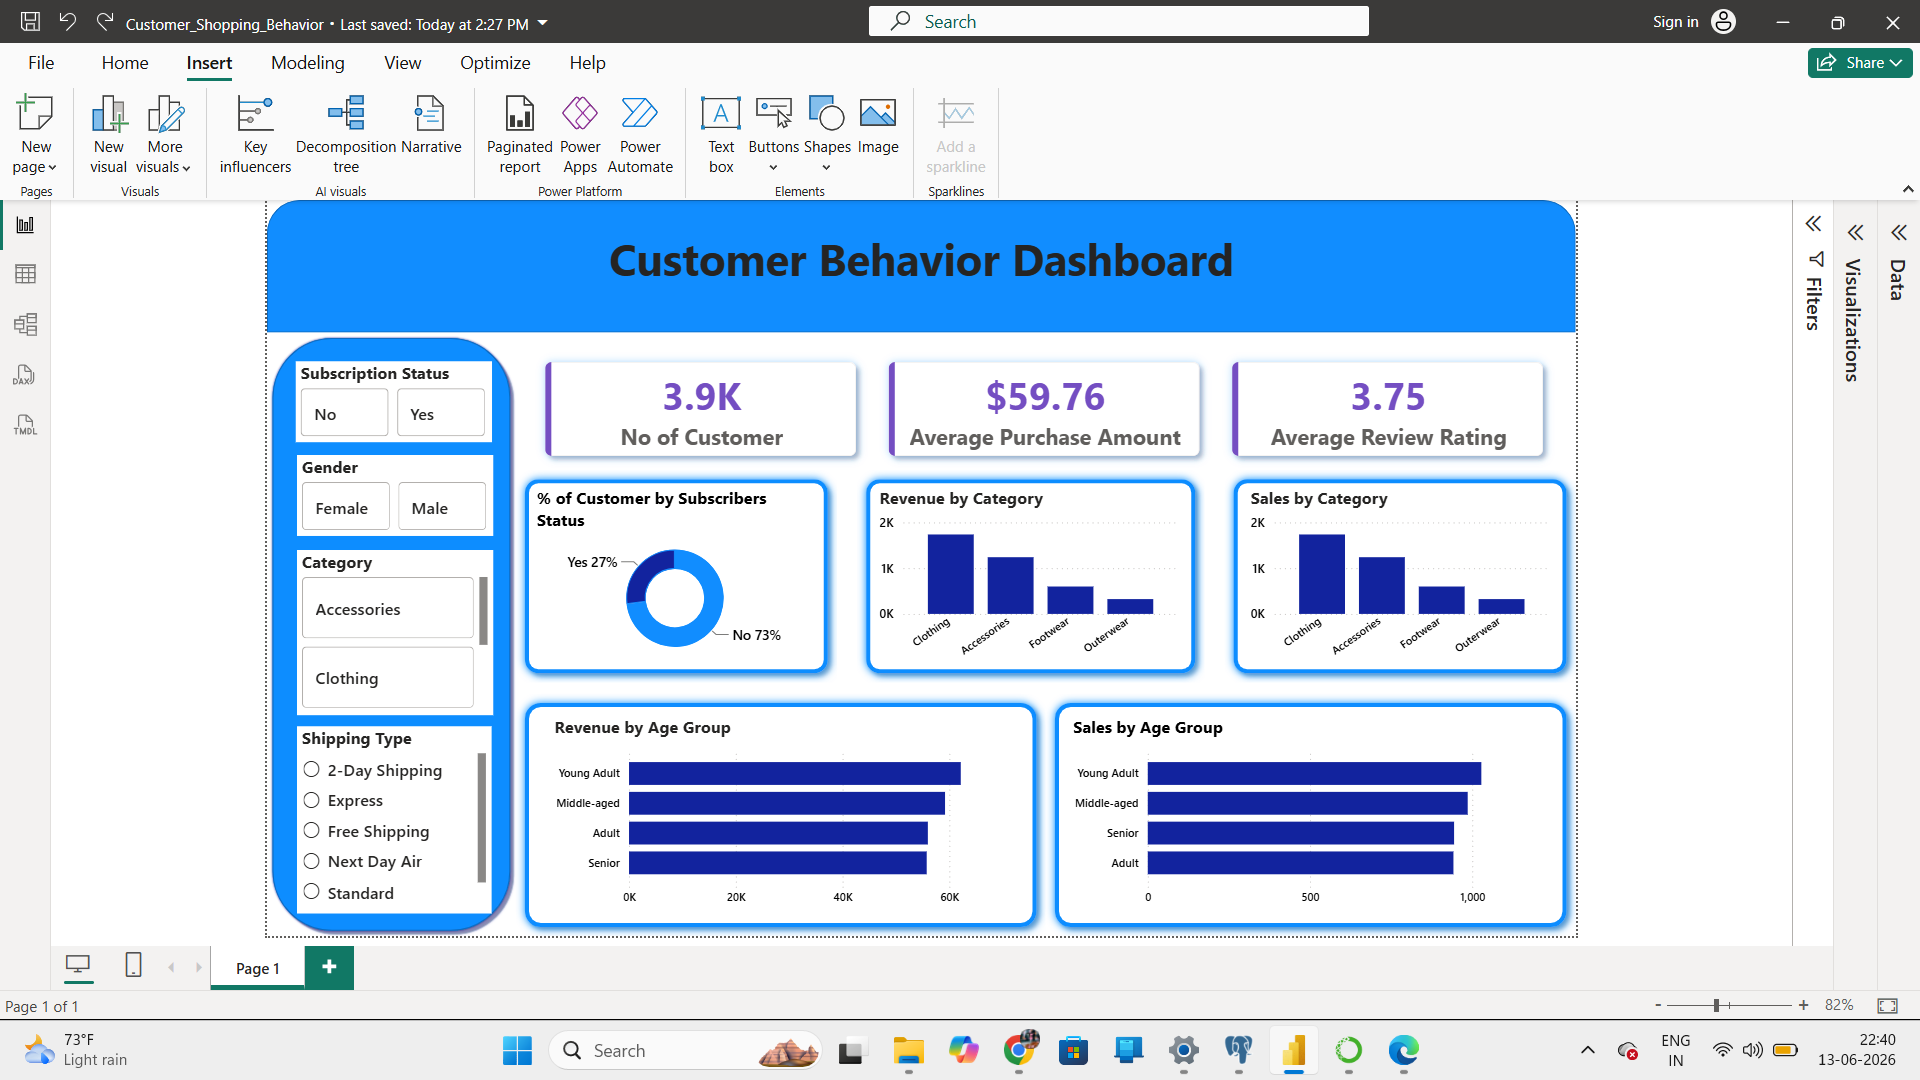

The page's visual inventory and layout, read from the dashboard file:
{"tool":"powerbi","page":{"name":"Page 1","canvas":[1280,720],"ordinal":0},"visuals":[{"type":"cardVisual","fields":{"Data":["public customer.No of Customer","public customer.Average Purchase Amount","public customer.Average Review Rating"]},"box":[243.3,129.6,1037,150.4],"z":0},{"type":"shape","box":[0,0,1280.3,129.6],"z":1000},{"type":"textbox","box":[0,23.2,1280.3,73.4],"z":2000},{"type":"shape","box":[243.3,264.1,314.3,207.9],"z":3000},{"type":"donutChart","title":"% of Customer by Subscribers Status","fields":{"Category":["public customer.subscription_status"],"Y":["CountNonNull(public customer.customer_id)"]},"box":[259.2,280,280,176.1],"z":4000},{"type":"shape","box":[577.2,264.1,339.9,207.9],"z":5000},{"type":"shape","box":[936.7,264.1,343.6,207.9],"z":6000},{"type":"clusteredColumnChart","title":"Revenue by Category","fields":{"Category":["public customer.category"],"Y":["CountNonNull(public customer.purchase_amount)"]},"box":[594.3,280,303.3,176.1],"z":7000},{"type":"clusteredColumnChart","title":"Sales by Category","fields":{"Category":["public customer.category"],"Y":["CountNonNull(public customer.customer_id)"]},"box":[957.5,280,303.3,176.1],"z":8000},{"type":"shape","box":[0,129.6,243.3,590.6],"z":9000},{"type":"advancedSlicerVisual","fields":{"Values":["public customer.subscription_status"]},"box":[28.1,157.7,192,79.5],"z":10000},{"type":"advancedSlicerVisual","fields":{"Values":["public customer.gender"]},"box":[29.3,249.5,192,79.5],"z":11000},{"type":"advancedSlicerVisual","fields":{"Values":["public customer.category"]},"box":[29.3,342.4,192,161.4],"z":12000},{"type":"listSlicer","fields":{"Values":["public customer.shipping_type"]},"box":[29.3,514.8,190.8,183.4],"z":13000},{"type":"clusteredBarChart","fields":{"Y":["Sum(public customer.purchase_amount)"],"Category":["public customer.age_group"]},"box":[267.8,502.6,478.1,195.7],"z":14000},{"type":"shape","box":[761.8,483,518.5,237.2],"z":15000},{"type":"shape","box":[243.3,483,518.5,237.2],"z":16000},{"type":"clusteredBarChart","title":"Revenue by Age Group","fields":{"Y":["Sum(public customer.purchase_amount)"],"Category":["public customer.age_group"]},"box":[276.4,503.8,458.6,195.7],"z":17000},{"type":"clusteredBarChart","title":"Sales by Age Group","fields":{"Y":["CountNonNull(public customer.customer_id)"],"Category":["public customer.age_group"]},"box":[783.8,503.8,476.9,195.7],"z":18000}]}

Visuals, with their boxes on the page's 1280x720 design canvas (x1, y1, x2, y2). These are canvas units, not pixel positions in the 1920x1080 screenshot, which may show the page scaled, cropped or inside an application window:
cardVisual - public customer.No of Customer x public customer.Average Purchase Amount: <bbox>243, 130, 1280, 280</bbox>
shape: <bbox>0, 0, 1280, 130</bbox>
textbox: <bbox>0, 23, 1280, 97</bbox>
shape: <bbox>243, 264, 558, 472</bbox>
"% of Customer by Subscribers Status" donutChart: <bbox>259, 280, 539, 456</bbox>
shape: <bbox>577, 264, 917, 472</bbox>
shape: <bbox>937, 264, 1280, 472</bbox>
"Revenue by Category" clusteredColumnChart: <bbox>594, 280, 898, 456</bbox>
"Sales by Category" clusteredColumnChart: <bbox>958, 280, 1261, 456</bbox>
shape: <bbox>0, 130, 243, 720</bbox>
advancedSlicerVisual - public customer.subscription_status: <bbox>28, 158, 220, 237</bbox>
advancedSlicerVisual - public customer.gender: <bbox>29, 250, 221, 329</bbox>
advancedSlicerVisual - public customer.category: <bbox>29, 342, 221, 504</bbox>
listSlicer - public customer.shipping_type: <bbox>29, 515, 220, 698</bbox>
clusteredBarChart - Sum(public customer.purchase_amount) x public customer.age_group: <bbox>268, 503, 746, 698</bbox>
shape: <bbox>762, 483, 1280, 720</bbox>
shape: <bbox>243, 483, 762, 720</bbox>
"Revenue by Age Group" clusteredBarChart: <bbox>276, 504, 735, 700</bbox>
"Sales by Age Group" clusteredBarChart: <bbox>784, 504, 1261, 700</bbox>
